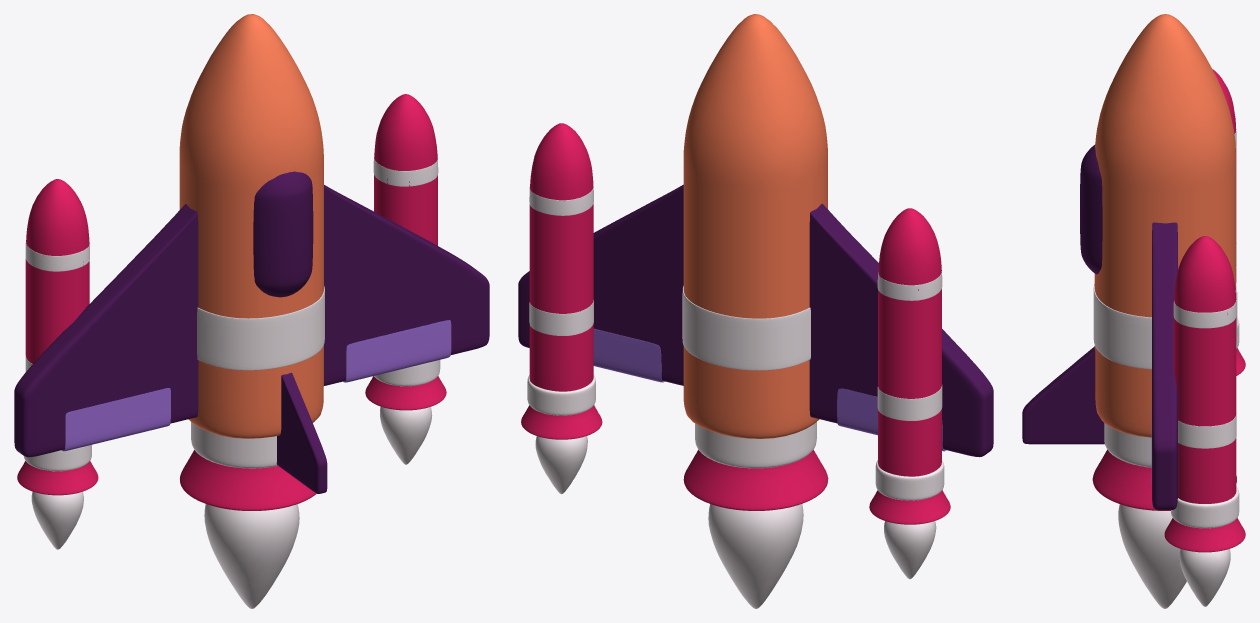
3 renders of one model, left to right at view 1: azimuth 30°, elevation 25°; view 2: azimuth 150°, elevation 25°; view 3: azimuth 270°, elevation 25°, orthographic.
Parts seen in each view (by area): view 1: illustration; view 2: illustration; view 3: illustration.
Part boxes in pixels (bbox=[...]): illustration: bbox=[14, 14, 489, 608]; illustration: bbox=[518, 14, 993, 608]; illustration: bbox=[1022, 14, 1245, 608].
Bounding box in the file's own units: 2.21 × 2.69 × 0.9158.
